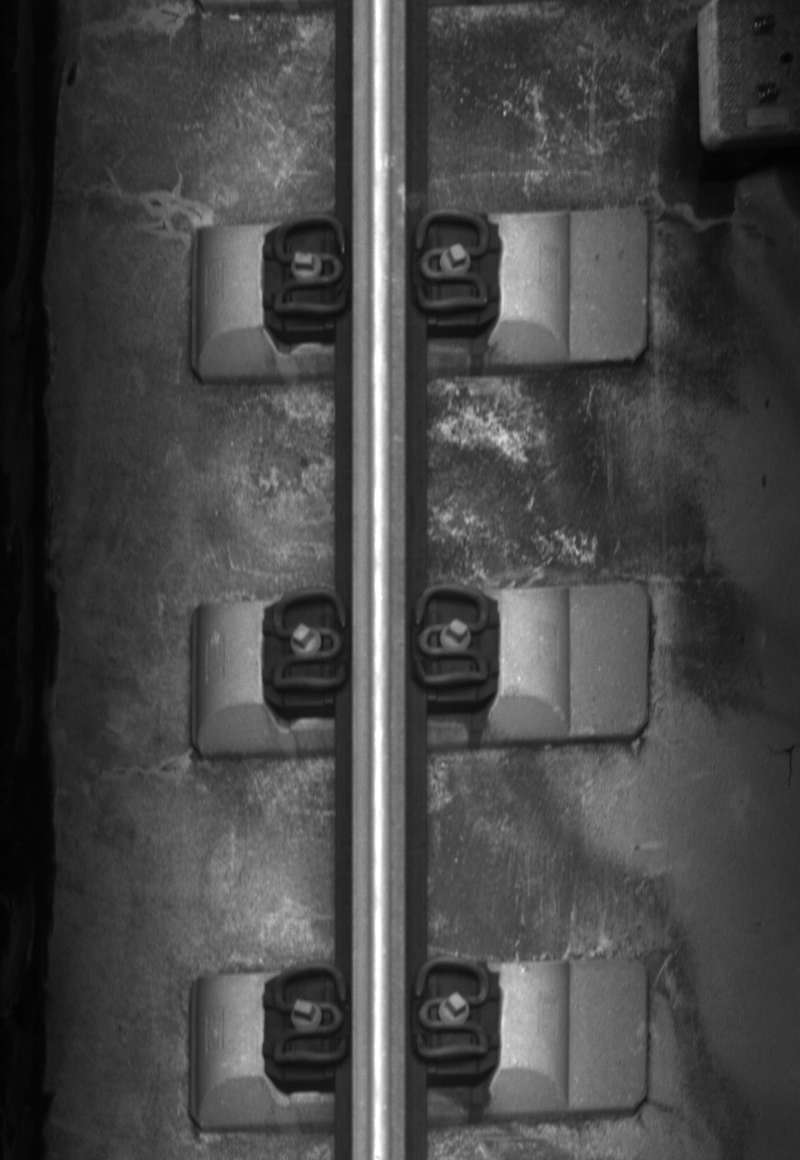l_faster: (267, 581, 352, 700), (266, 955, 351, 1071), (266, 210, 351, 323)
r_faster: (410, 581, 493, 692), (410, 205, 493, 316), (409, 954, 493, 1063)
